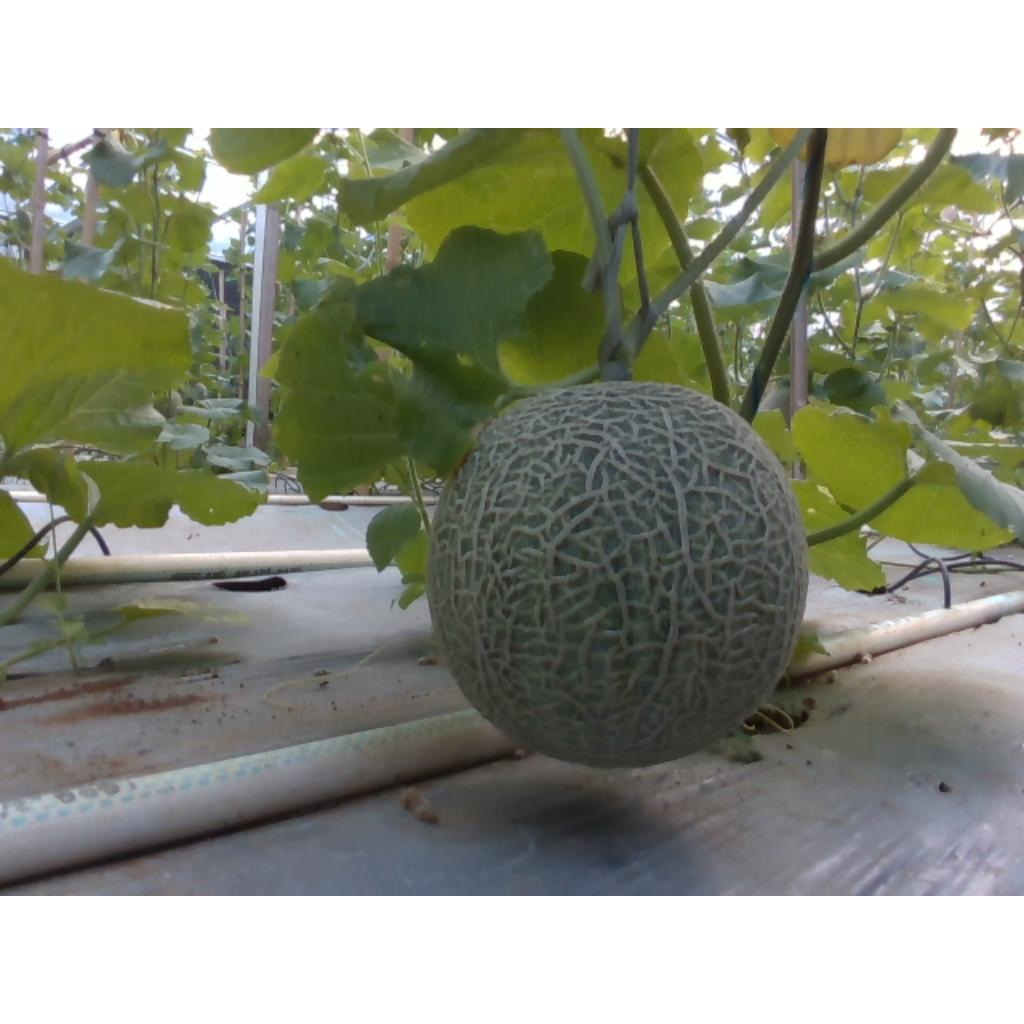melon: (429, 381, 810, 767)
